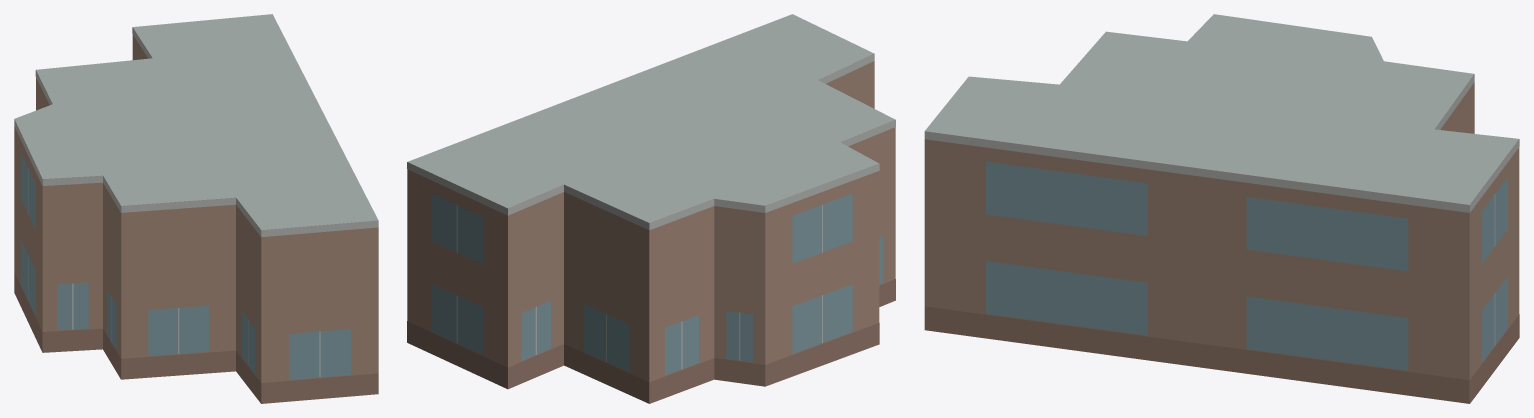
The model's file is survey-upis-32869258.glb.
3 renders of one model, left to right at view 1: azimuth 30°, elevation 25°; view 2: azimuth 150°, elevation 25°; view 3: azimuth 270°, elevation 25°, orthographic. The views are drawn at different scales.
Visible parts, largest first — view 1: survey-upis-32869258.tmp; view 2: survey-upis-32869258.tmp; view 3: survey-upis-32869258.tmp.
Part boxes in pixels (x1=…): survey-upis-32869258.tmp: x1=14, y1=14, x2=378, y2=403; survey-upis-32869258.tmp: x1=407, y1=14, x2=895, y2=403; survey-upis-32869258.tmp: x1=924, y1=14, x2=1519, y2=403.
Bounding box in the file's own units: 12.58 × 6.1 × 16.55.
